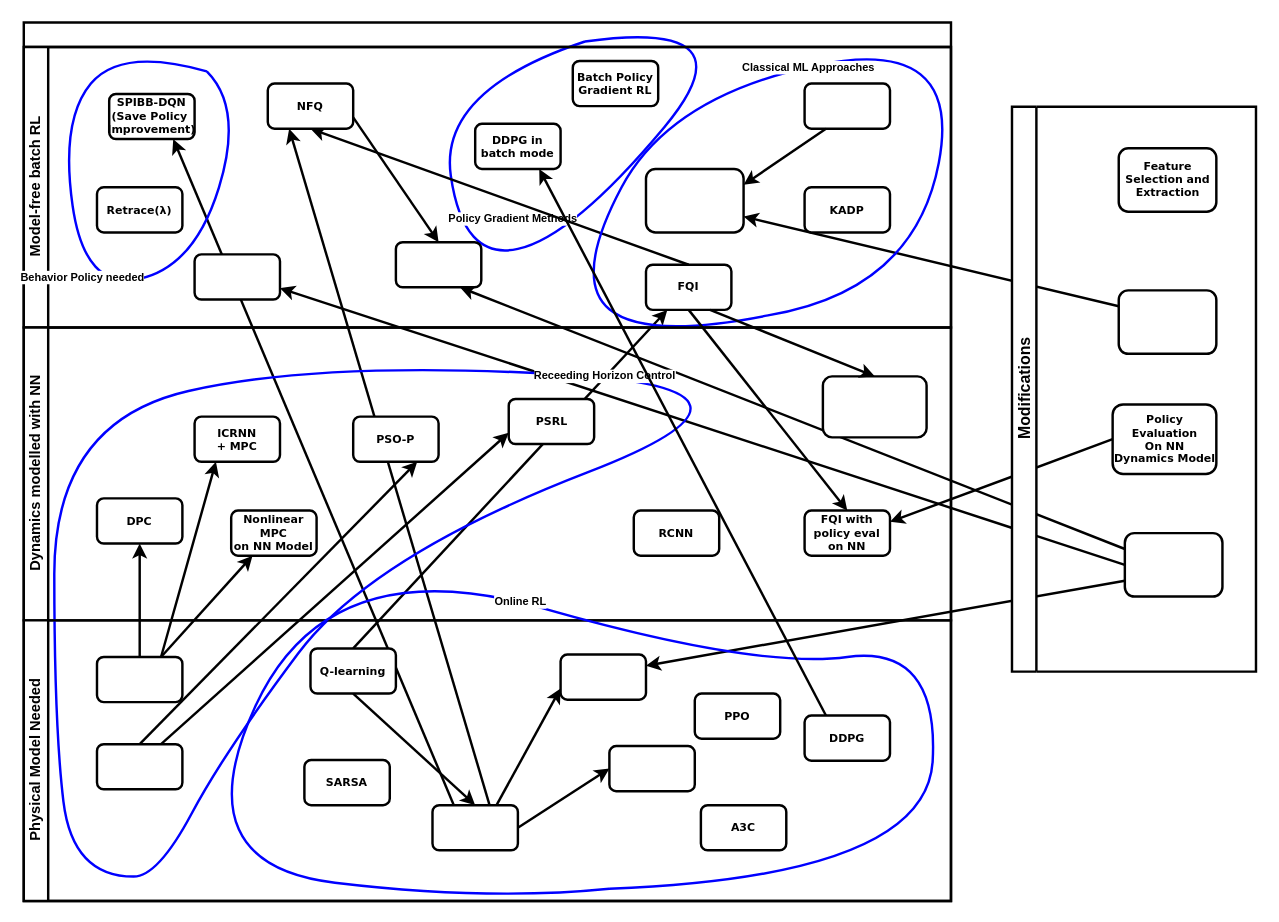
The diagram is 1279 pixels wide and 922 high, and some of its shapes have lost their labels. Here are the shapes that lost their labels. From the top down, the centre of each, then its label:
the point at 847,105: LSPI
the point at 694,200: LSPI with NDPI
the point at 237,276: BCQ
the point at 438,264: NFQ with double Q-learning
the point at 1167,321: NDPI: Non-deterministic policy improvement
the point at 874,406: Extended FQI (with forecast)
the point at 1173,564: Multiple Q-Networks
the point at 139,679: MPC
the point at 603,676: Double Q-learning
the point at 139,766: PSO
the point at 651,768: DQN(λ)
the point at 474,827: DQN
